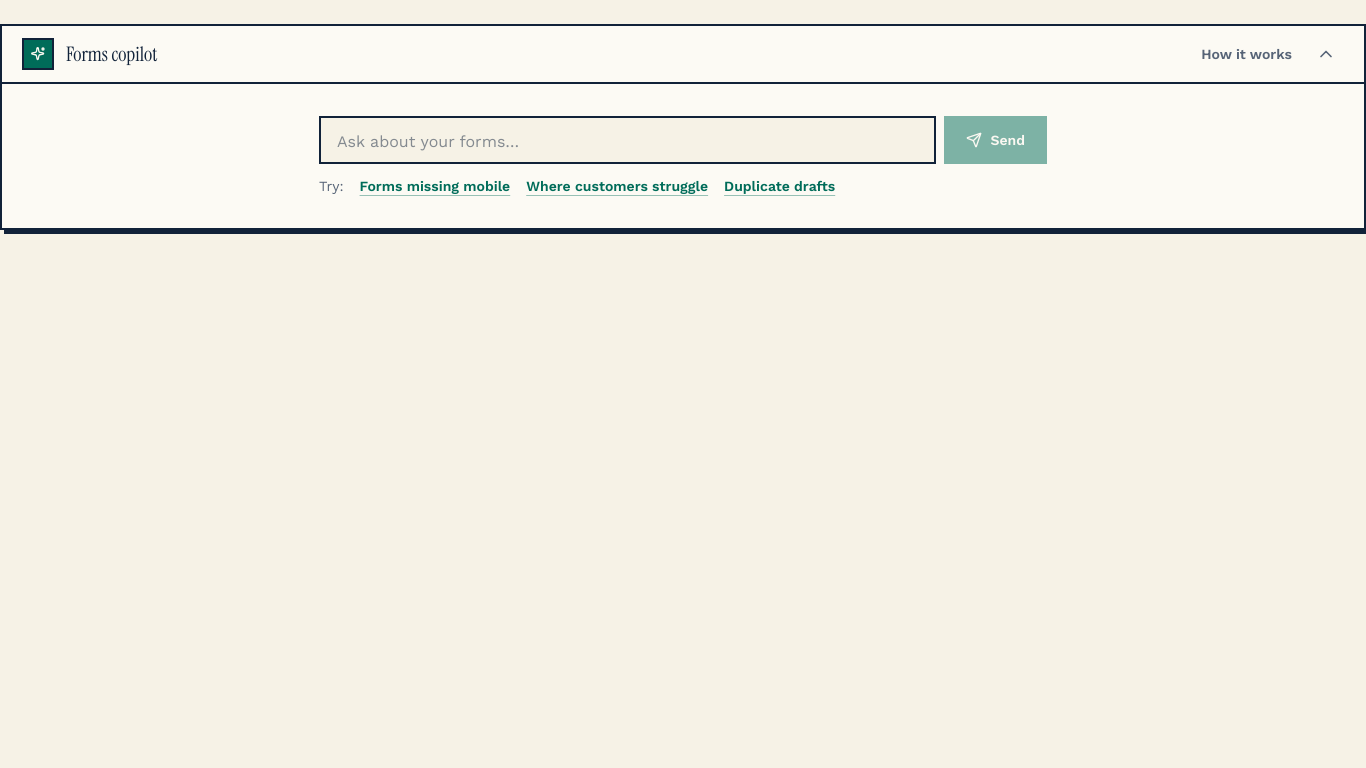
Test case: CopilotPanel › a suggestion link asks its full question and shows the bubble, the answer and the proposals, all checked
Click the button "Duplicate drafts" at (780, 186), box [724,176,835,196]
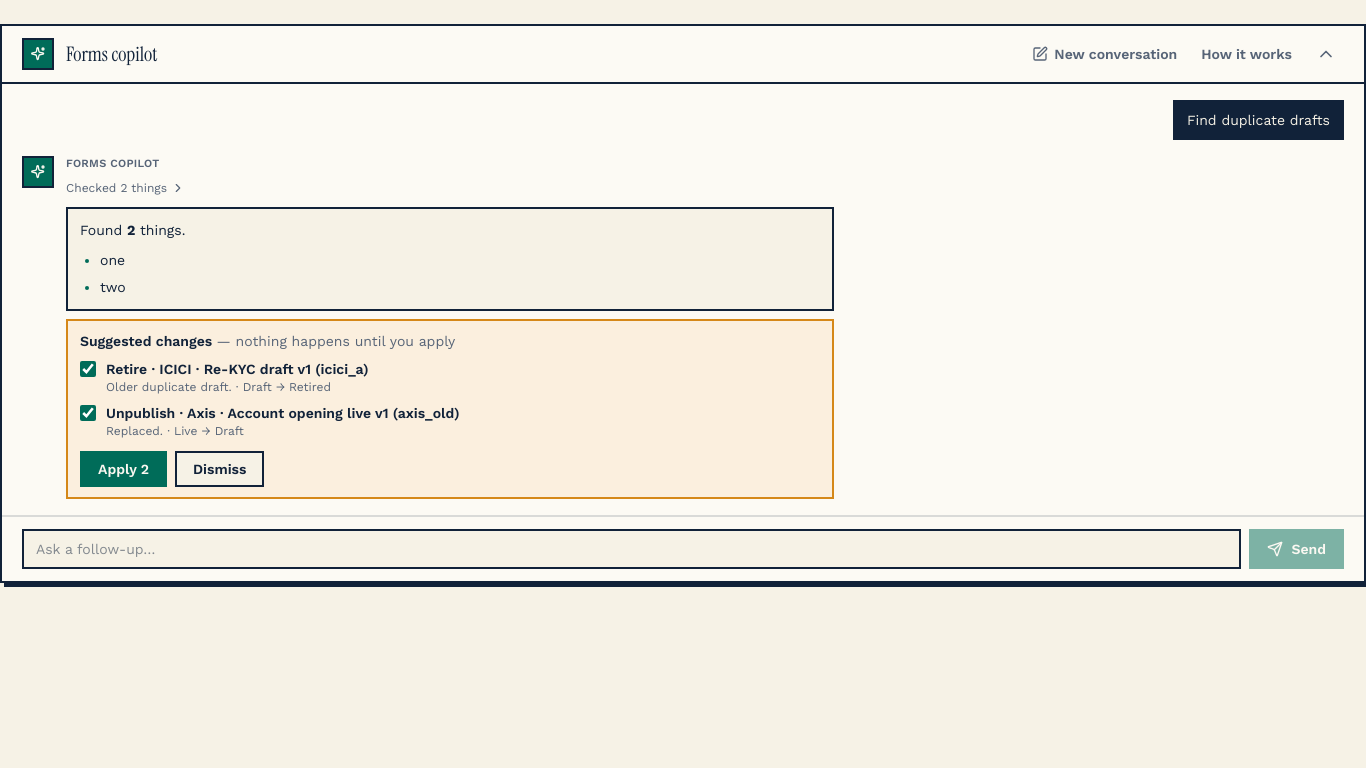
expect the text "2" is shown: met, box [127,222,135,238]
expect the text "Find duplicate drafts" is shown: met, box [1173,100,1344,140]
expect the list item "one" is shown: met, box [100,252,125,268]
